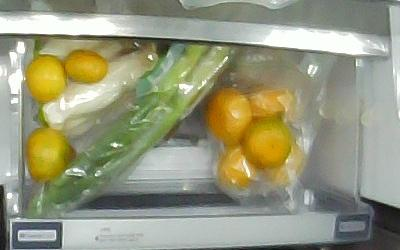tangerine: (24, 125, 77, 182), (24, 53, 67, 102), (62, 47, 108, 84)
tangerine_vinyl: (204, 85, 253, 144), (240, 115, 292, 169), (213, 141, 260, 189), (260, 137, 304, 184), (244, 82, 293, 117)
